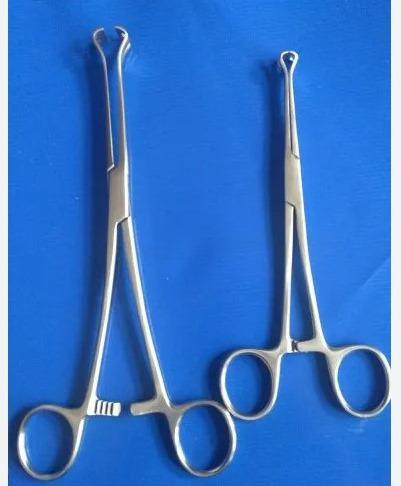Babcock Forceps: (10, 22, 237, 485), (215, 40, 394, 425)
